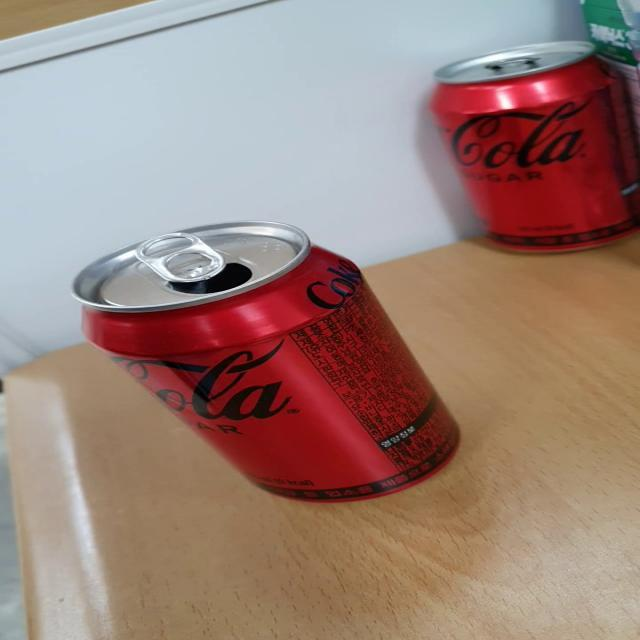coca-cola: (61, 213, 491, 505), (416, 38, 640, 254)
